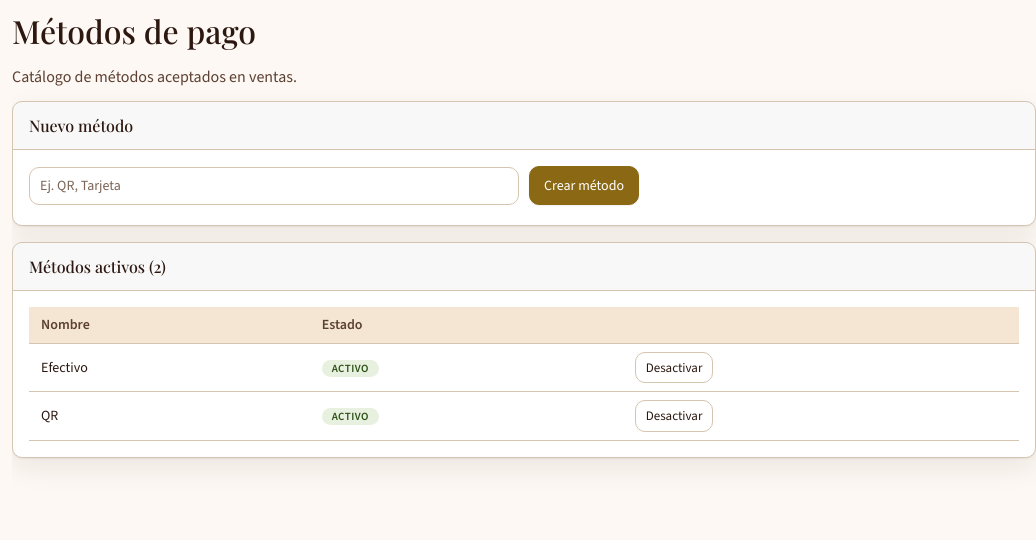
Test case: Pagos (HU-20) › crear muestra error humano ante duplicado
Expected: the text "Efectivo" is shown, left=29, top=343, right=310, bottom=392
In the field with placeholder "Ej. QR, Tarjeta": (274, 186) left=29, top=167, right=519, bottom=205, type "Efectivo"
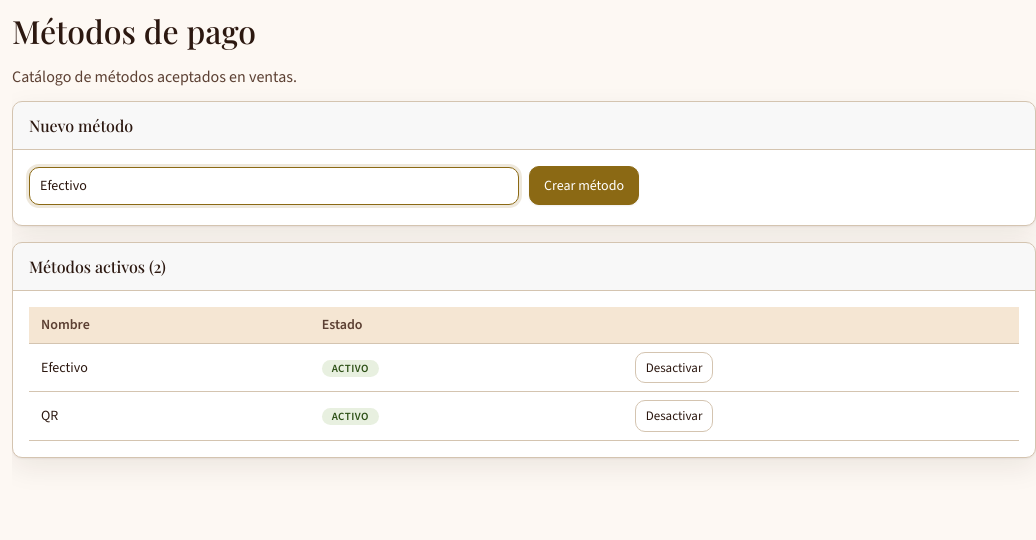
Click the button "Crear método": (584, 186) left=529, top=166, right=639, bottom=205
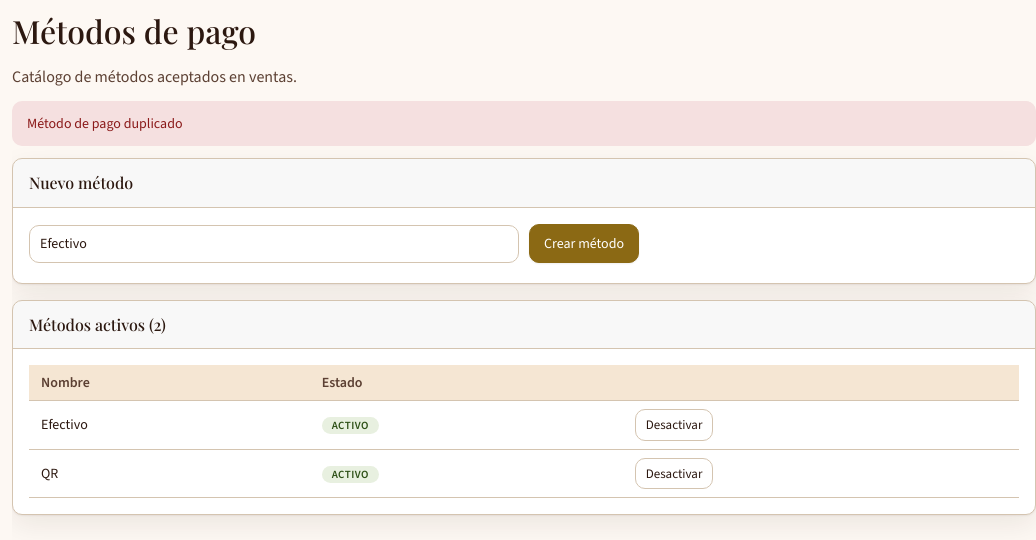
Expected: the text "QR" is shown, left=29, top=449, right=310, bottom=498
Now the text "Método de pago duplicado" is shown, box left=27, top=114, right=182, bottom=133
